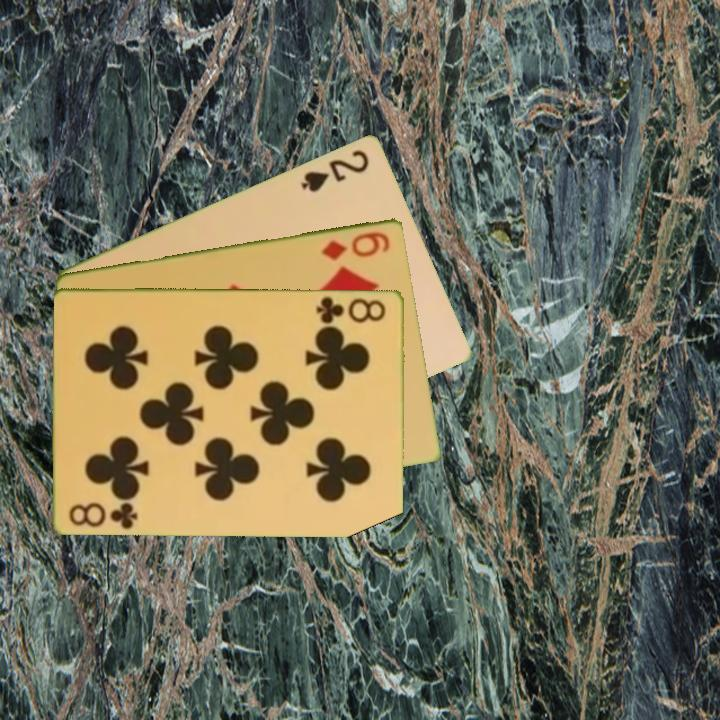2s: (297, 145, 372, 195)
6d: (318, 227, 393, 263)
8c: (313, 292, 389, 326), (66, 498, 141, 531)
